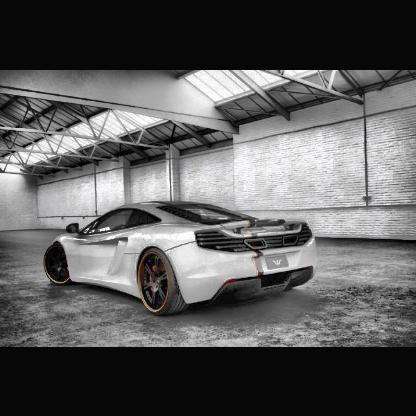McLaren MP4-12C Coupe 2012: (45, 201, 318, 317)
